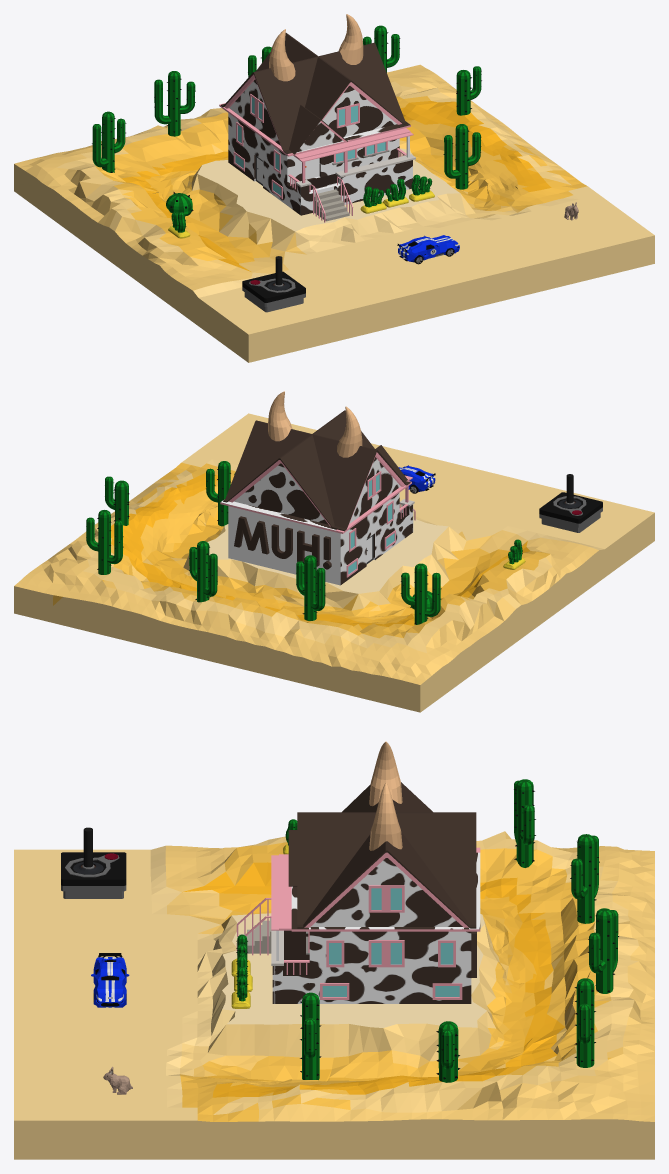
3 renders of one model, top to bottom at view 1: azimuth 30°, elevation 25°; view 2: azimuth 150°, elevation 25°; view 3: azimuth 270°, elevation 25°, orthographic. The views are drawn at different scales.
Parts seen in each view (by area): view 1: Cube.001, Cube.1242, OBJRANDOM_JOYSTICK, Cylinder.037, Cylinder.044, Cylinder.045, VEHICLES_RACING_CAR, Cylinder.038, Cylinder.042, Cylinder.041, Cylinder.039; view 2: Cube.001, Cube.1242, OBJRANDOM_JOYSTICK, Cylinder.045, Cylinder.042, Cylinder.044, Cylinder.043, Cylinder.037, Cylinder.038, VEHICLES_RACING_CAR; view 3: Cube.001, Cube.1242, OBJRANDOM_JOYSTICK, Cylinder.044, Cylinder.043, VEHICLES_RACING_CAR, Cylinder.045, Cylinder.042, Cylinder.037, Cylinder.038, Cylinder.041.
Part boxes in pixels (x1,y1,x2,y2): Cube.001: (14,64,654,362); Cube.1242: (219,14,415,222); OBJRANDOM_JOYSTICK: (242,256,305,312); Cylinder.037: (443,124,481,189); Cylinder.044: (154,71,195,136); Cylinder.045: (92,111,126,172); VEHICLES_RACING_CAR: (397,235,459,264); Cylinder.038: (456,66,481,115); Cylinder.042: (363,25,400,72); Cylinder.041: (409,174,434,201); Cylinder.039: (360,186,386,213); Cube.001: (14,413,654,712); Cube.1242: (220,391,415,585); OBJRANDOM_JOYSTICK: (539,474,602,532); Cylinder.045: (400,563,441,624); Cylinder.042: (86,510,123,574); Cylinder.044: (296,555,325,620); Cylinder.043: (189,541,217,602); Cylinder.037: (206,461,235,526); Cylinder.038: (105,476,129,525); VEHICLES_RACING_CAR: (398,465,435,493); Cube.001: (14,831,654,1159); Cube.1242: (236,741,480,1003); OBJRANDOM_JOYSTICK: (61,827,126,898); Cylinder.044: (570,834,599,923); Cylinder.043: (588,908,618,993); VEHICLES_RACING_CAR: (91,953,129,1007); Cylinder.045: (514,779,535,867); Cylinder.042: (574,978,595,1067); Cylinder.037: (300,992,321,1079); Cylinder.038: (436,1021,460,1082); Cylinder.041: (231,966,250,1008).
Size of the model in its own units: 4002 by 1886 by 4001.
45 materials, 2 textured.
